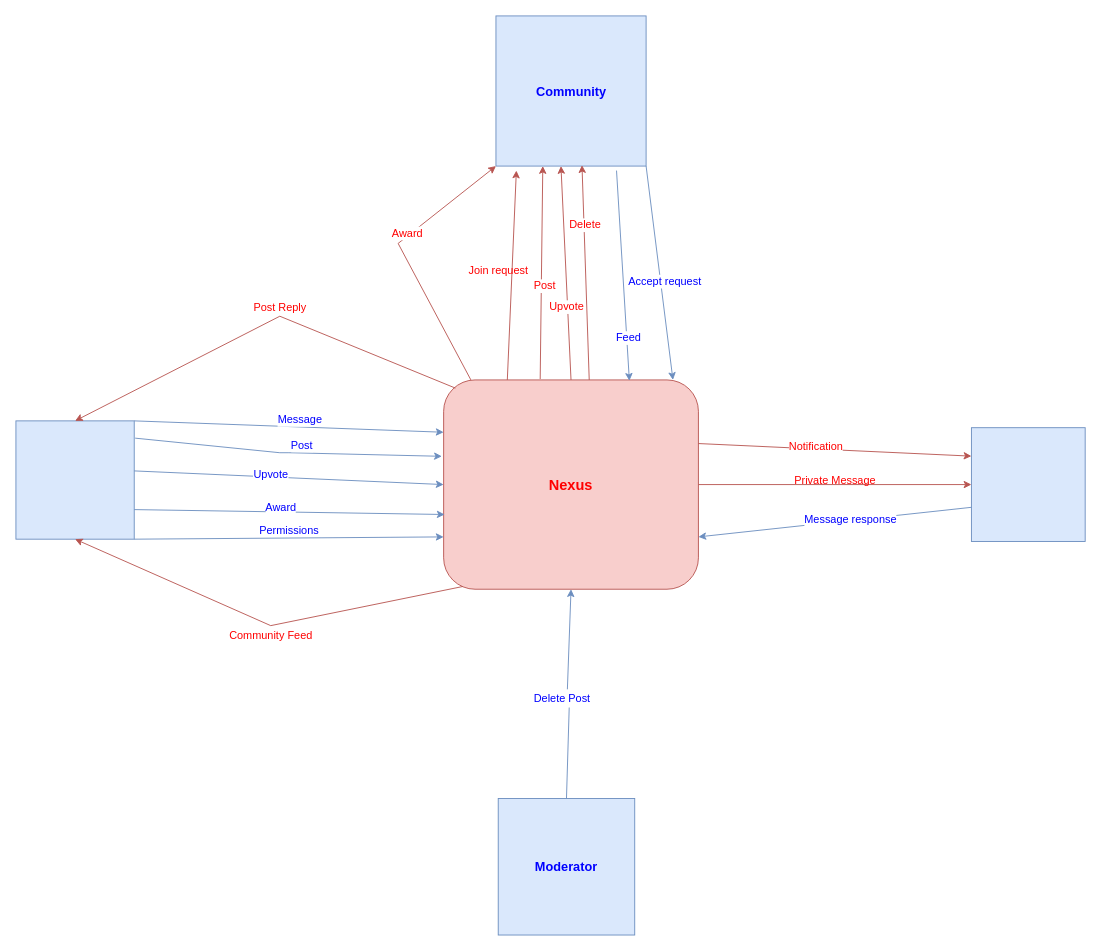
The diagram is 1101 pixels wide and 951 high, and some of its shapes have lost their labels. The centre of each missing label's shape, as x and y in pixels:
"Inbox" belongs at pixel 1028 484.
"Member" belongs at pixel 74 479.
